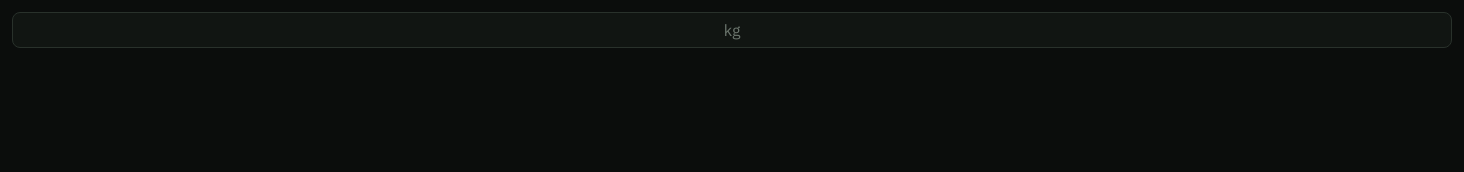
Test: NumCell › ignores letters and accepts a comma
Type "7a,5" into the field named "Weight" at (732, 30), box top-left (12, 12), bottom-right (1452, 48)
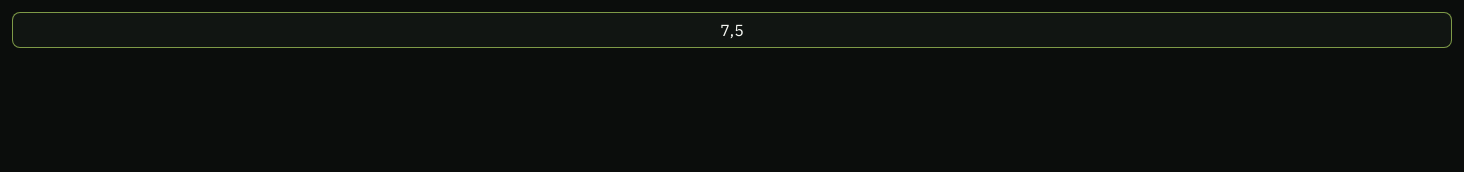
Expected: the field named "Weight" holds "7,5", top-left (12, 12), bottom-right (1452, 48)
